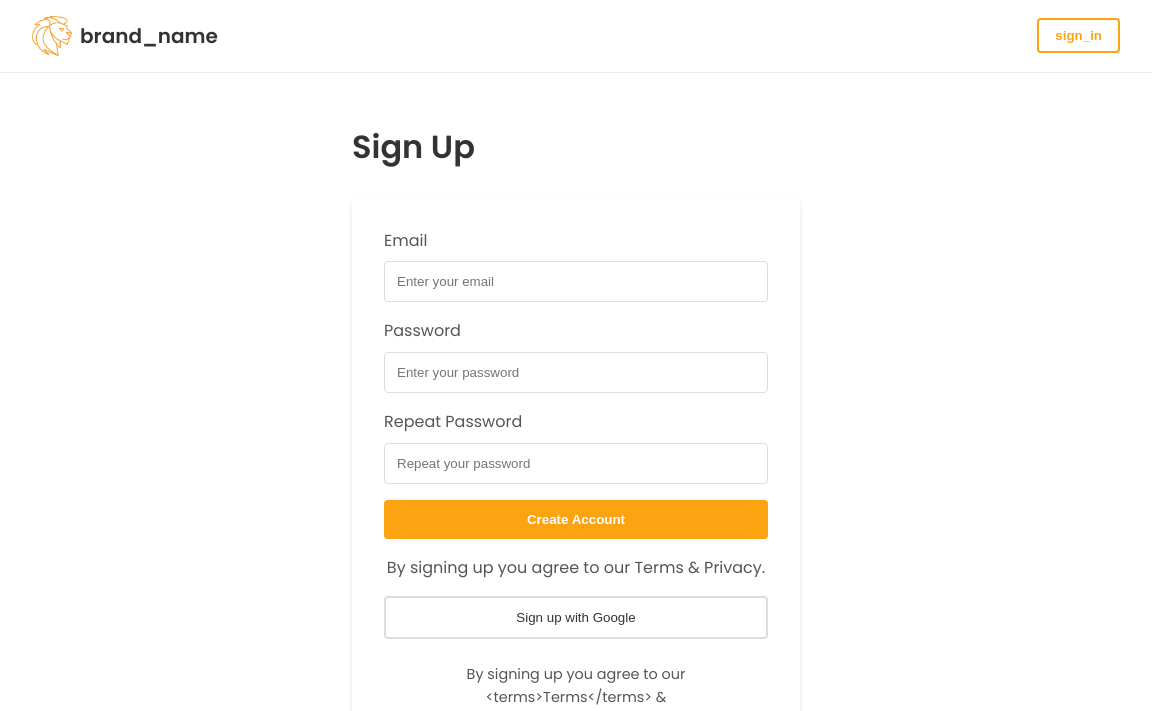
Test: <SignUpPage /> › shows error if password is too short
Type "test@example.com" into the field labelled "Email" at (576, 282), box [384, 262, 768, 302]
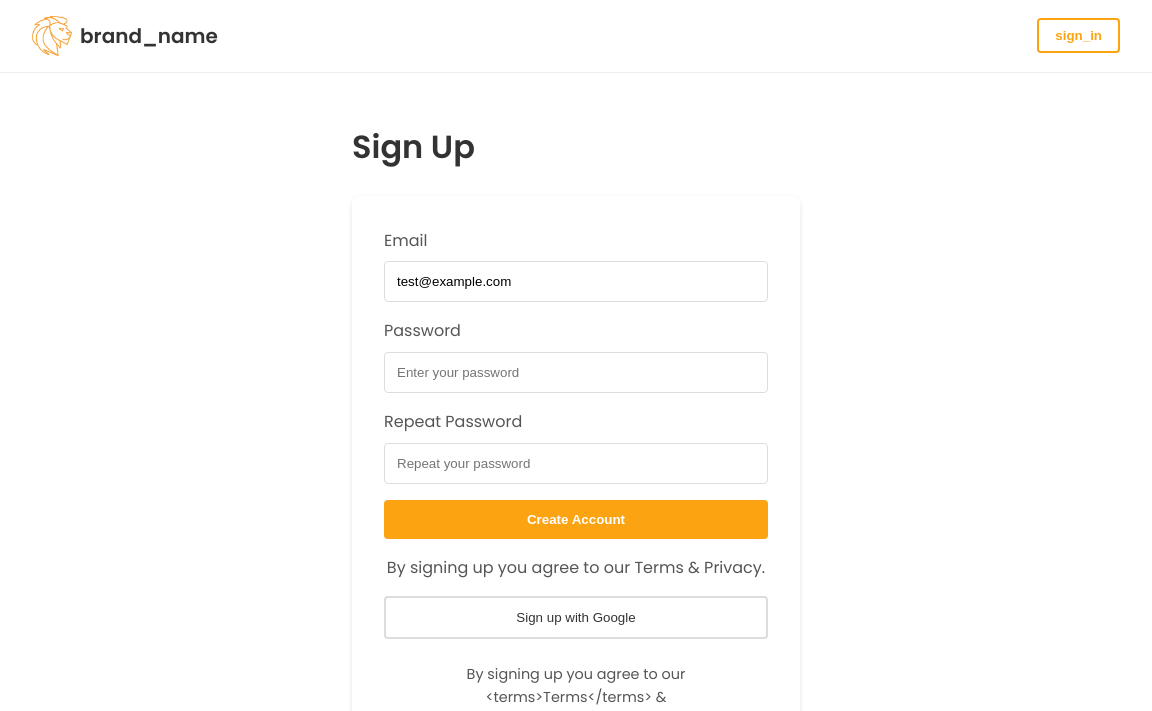
Type "short" into the password field labelled "Password" at (576, 373), box [384, 352, 768, 393]
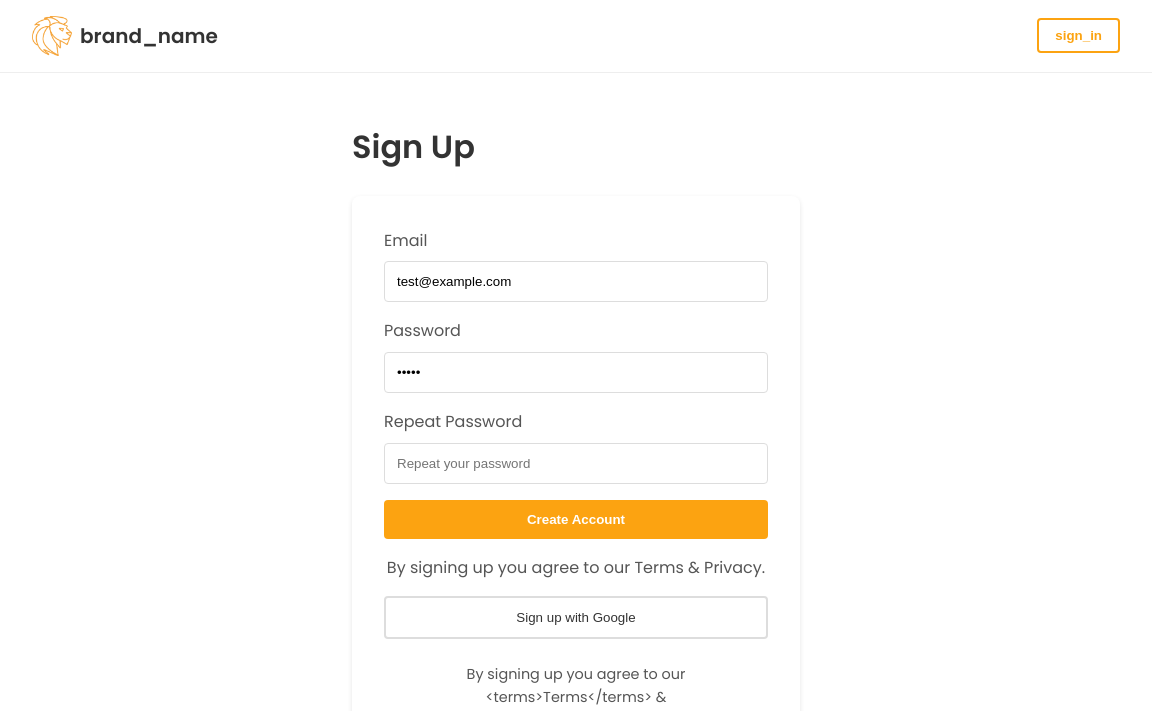
Type "short" into the password field labelled "Repeat Password" at (576, 463), box [384, 443, 768, 484]
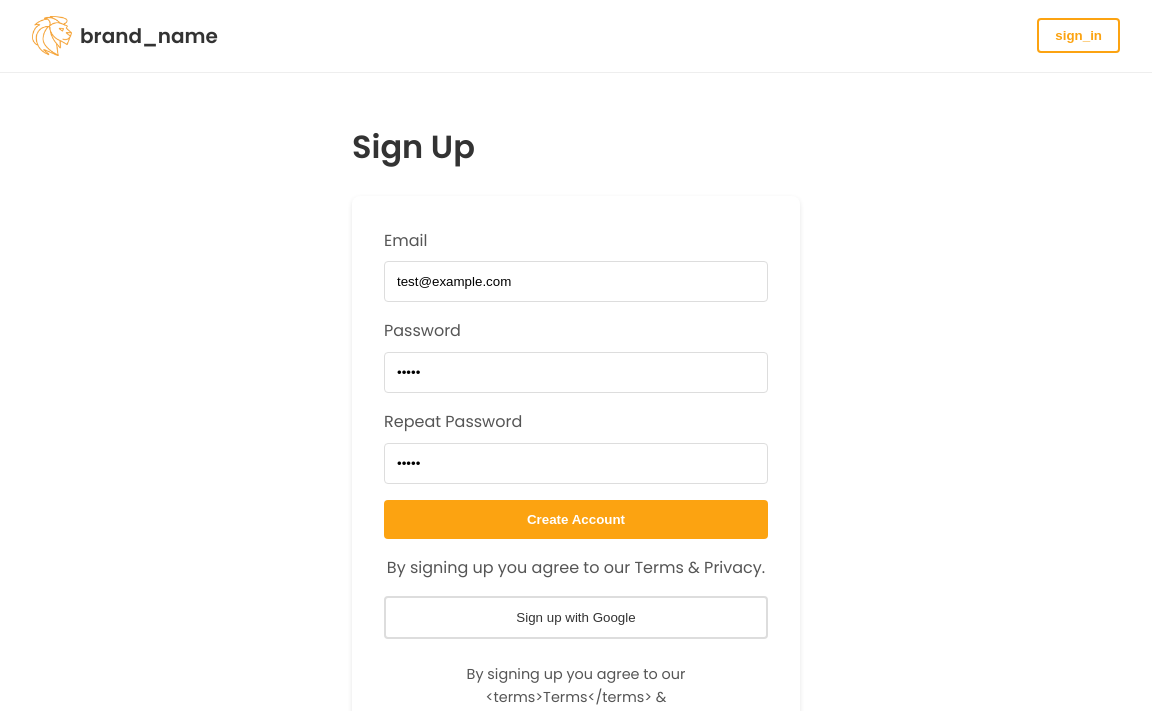
Click the button "Create Account" at (576, 519), box [384, 500, 768, 539]
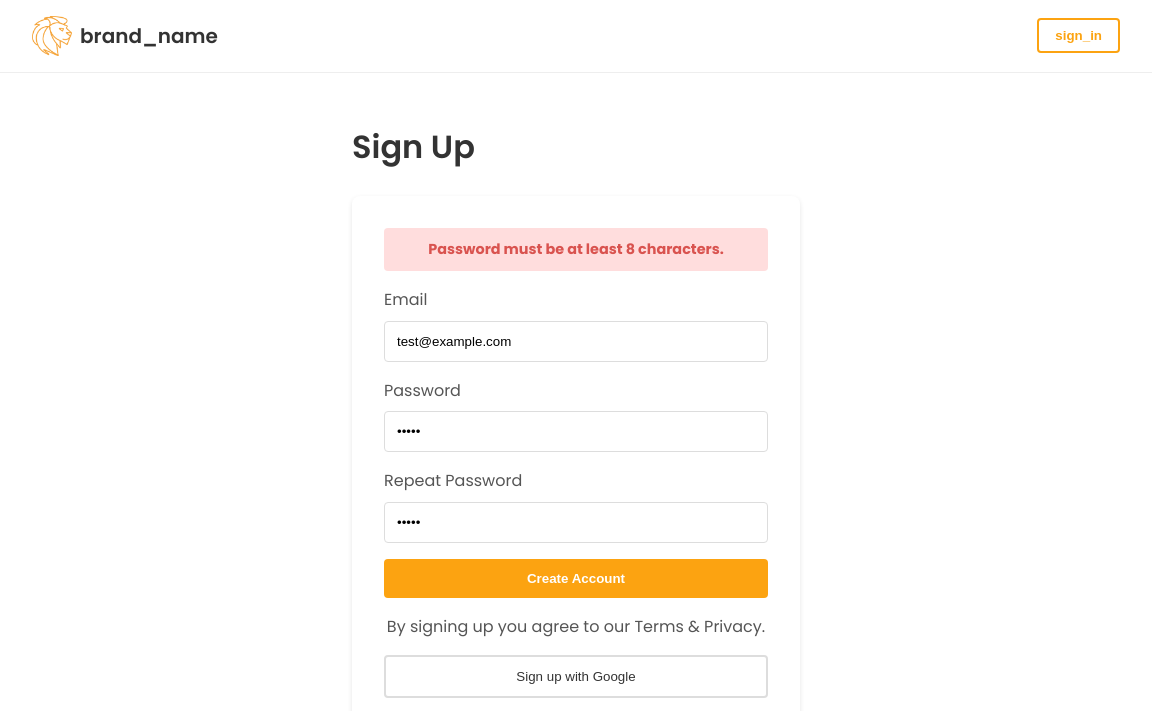
expect the text "Password must be at least 8 characters." is shown: met, box [384, 228, 768, 271]
